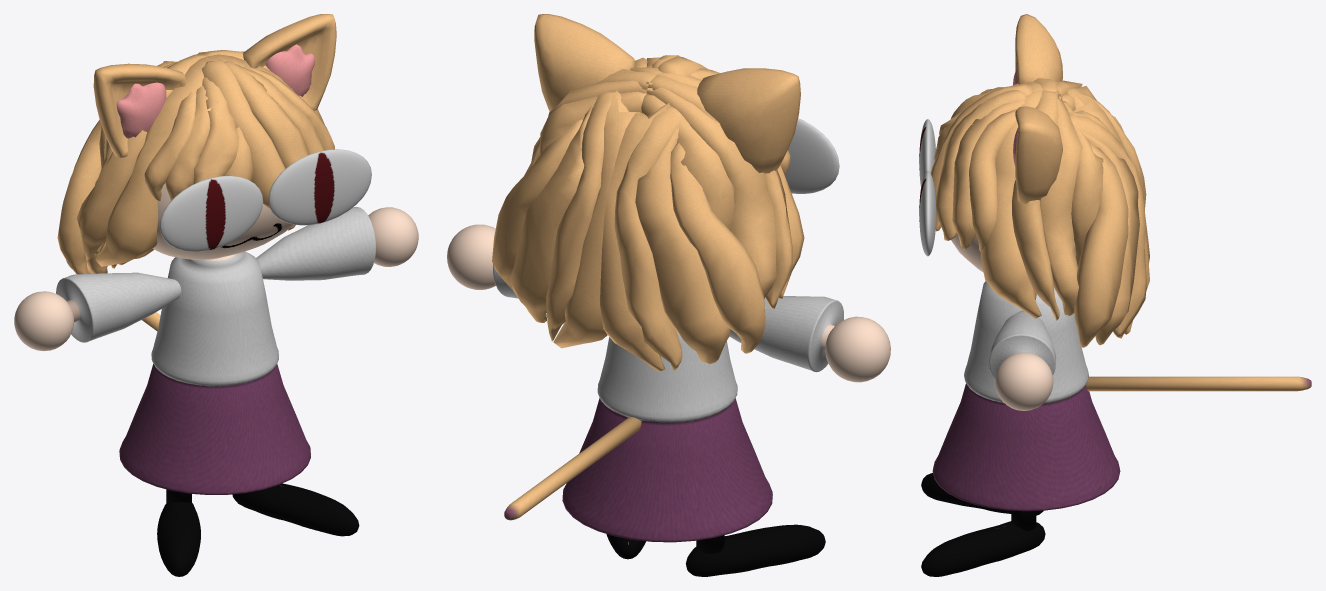
The model's file is neco-arc.glb.
3 views of the same model, side by side, from view 1: azimuth 30°, elevation 25°; view 2: azimuth 150°, elevation 25°; view 3: azimuth 270°, elevation 25° (orthographic). The views are drawn at different scales.
Parts seen in each view (by area): view 1: PBR - Metallic Roughness; view 2: PBR - Metallic Roughness; view 3: PBR - Metallic Roughness.
Boxes of the visible parts, x1,y1,x2,y2 form: PBR - Metallic Roughness: [14, 14, 418, 576]; PBR - Metallic Roughness: [447, 14, 890, 576]; PBR - Metallic Roughness: [919, 14, 1311, 576].
Size of the model in its own units: 2.45 by 2.83 by 2.15.
1 material, 1 textured.
